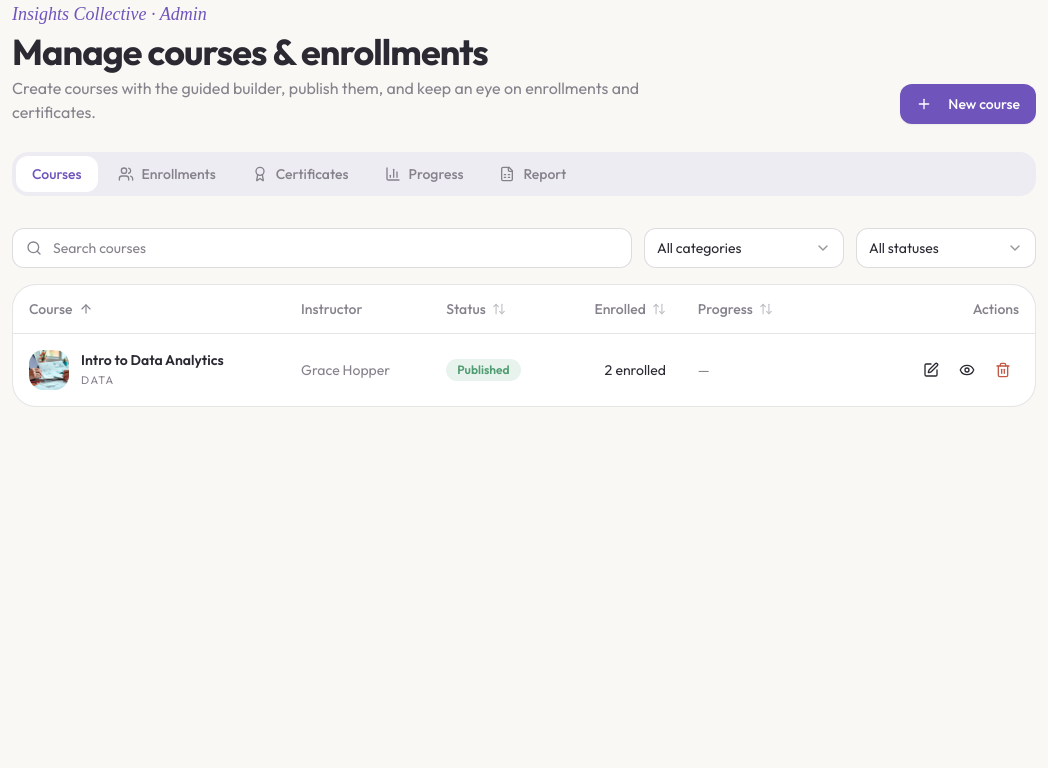
Test: AdminCourses › certificates tab › shows a destructive toast and no rows when the certificates query fails
Click the tab "Certificates" at coordinates (300, 174), box [236,156,365,192]
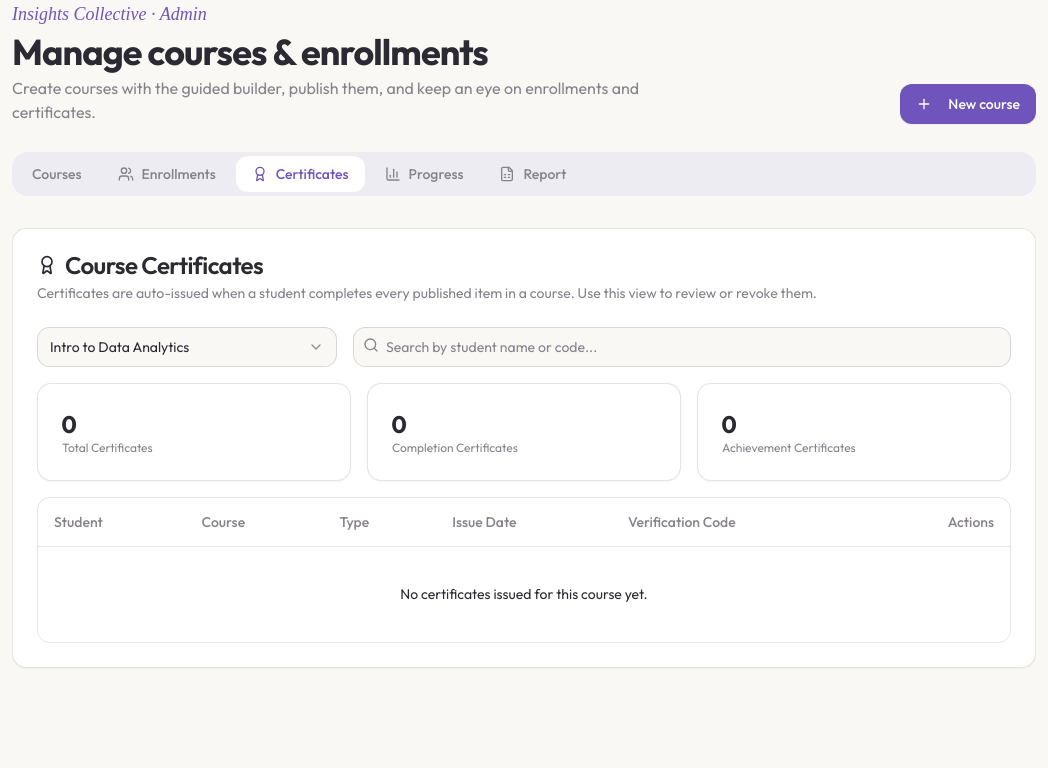
Now the text "No certificates issued for this course yet." is shown, box [38,546,1010,642]
